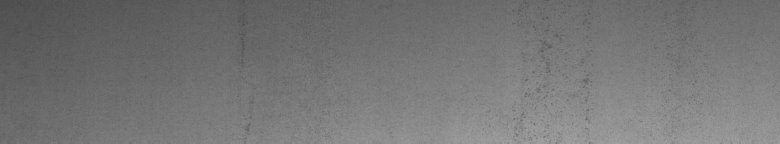ib: (514, 36, 593, 136)
